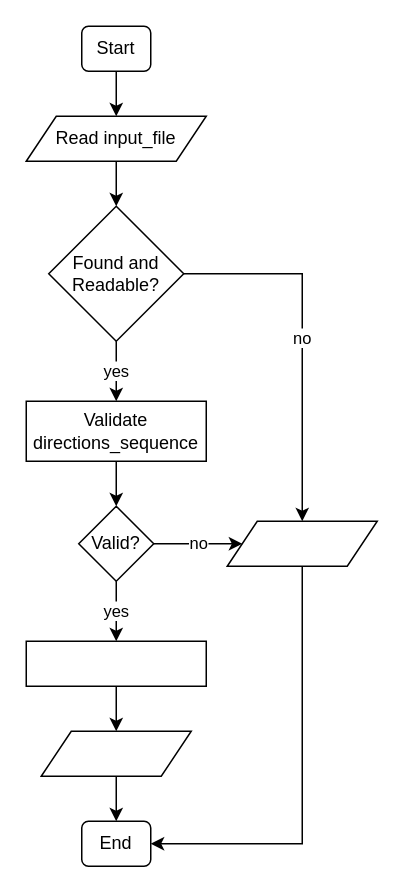
Image size: 404x893. Some labels were removed from this diagram. Here are the shapes that lost their labels. From the top down, the box of each, then its label:
(226, 520, 377, 566): Print error
(25, 640, 206, 686): Compute final_floor
(40, 730, 191, 776): Print result
